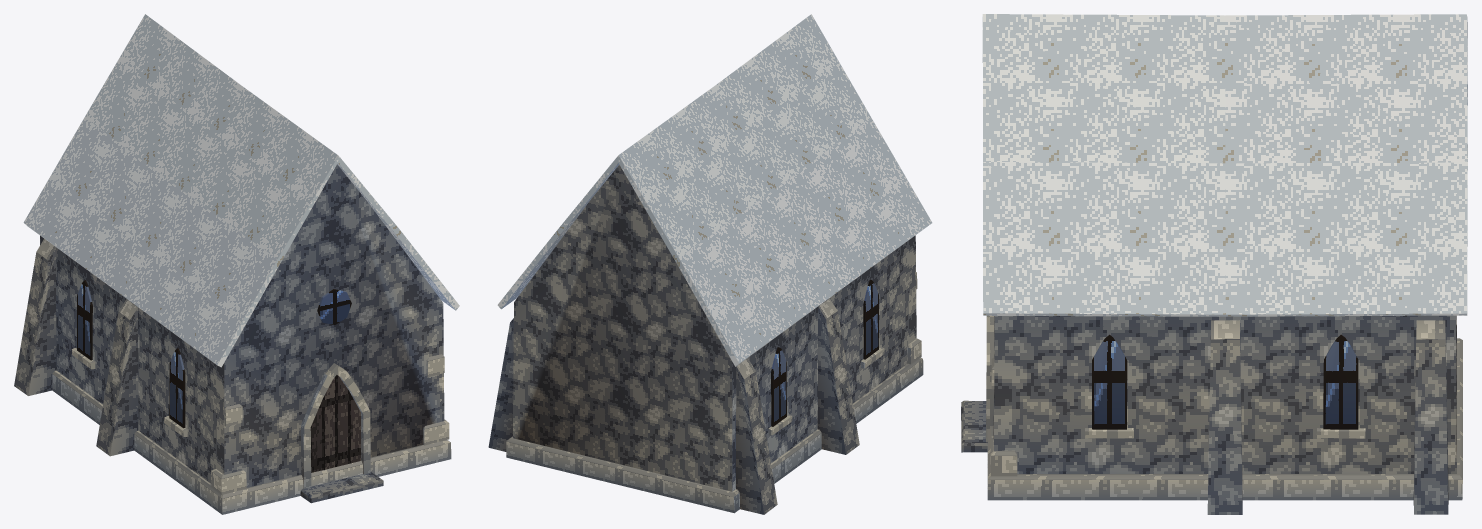
File: vlg.chapel__plain.glb
3 renders of one model, left to right at view 1: azimuth 30°, elevation 25°; view 2: azimuth 150°, elevation 25°; view 3: azimuth 270°, elevation 25°, orthographic. The views are drawn at different scales.
Visible parts, largest first — view 1: kit_roof, kit_walls, kit_stonework, kit_fittings; view 2: kit_walls, kit_roof, kit_stonework, kit_fittings; view 3: kit_roof, kit_walls, kit_stonework, kit_fittings.
Part boxes in pixels (box(x1,y1,x2,y2)): kit_roof: box(23, 14, 459, 367); kit_walls: box(40, 164, 444, 487); kit_stonework: box(14, 238, 451, 514); kit_fittings: box(71, 280, 383, 503); kit_walls: box(513, 165, 916, 491); kit_roof: box(497, 14, 932, 366); kit_stonework: box(488, 272, 923, 514); kit_fittings: box(768, 279, 884, 435); kit_roof: box(982, 14, 1467, 316); kit_walls: box(993, 315, 1456, 473); kit_stonework: box(987, 320, 1462, 514); kit_fittings: box(961, 315, 1365, 452).
Bounding box in the file's own units: 6.91 × 7.94 × 8.75.
6 materials, 6 textured.
